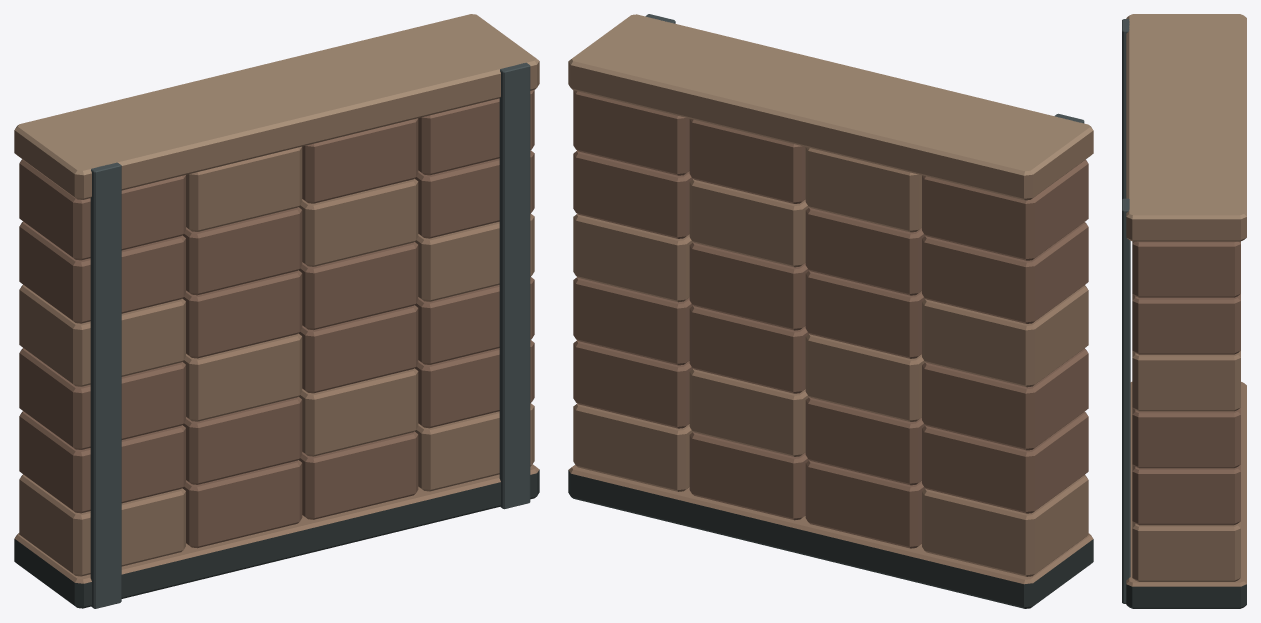
File: wall-tall.glb
3 renders of one model, left to right at view 1: azimuth 30°, elevation 25°; view 2: azimuth 150°, elevation 25°; view 3: azimuth 270°, elevation 25°, orthographic. The views are drawn at different scales.
Parts seen in each view (by area): view 1: wall-tall__body; view 2: wall-tall__body; view 3: wall-tall__body.
Boxes of the visible parts, x1,y1,x2,y2 form: wall-tall__body: [14, 14, 539, 608]; wall-tall__body: [568, 14, 1093, 608]; wall-tall__body: [1122, 14, 1246, 608].
Size of the model in its own units: 2 by 1.8 by 0.5175.
